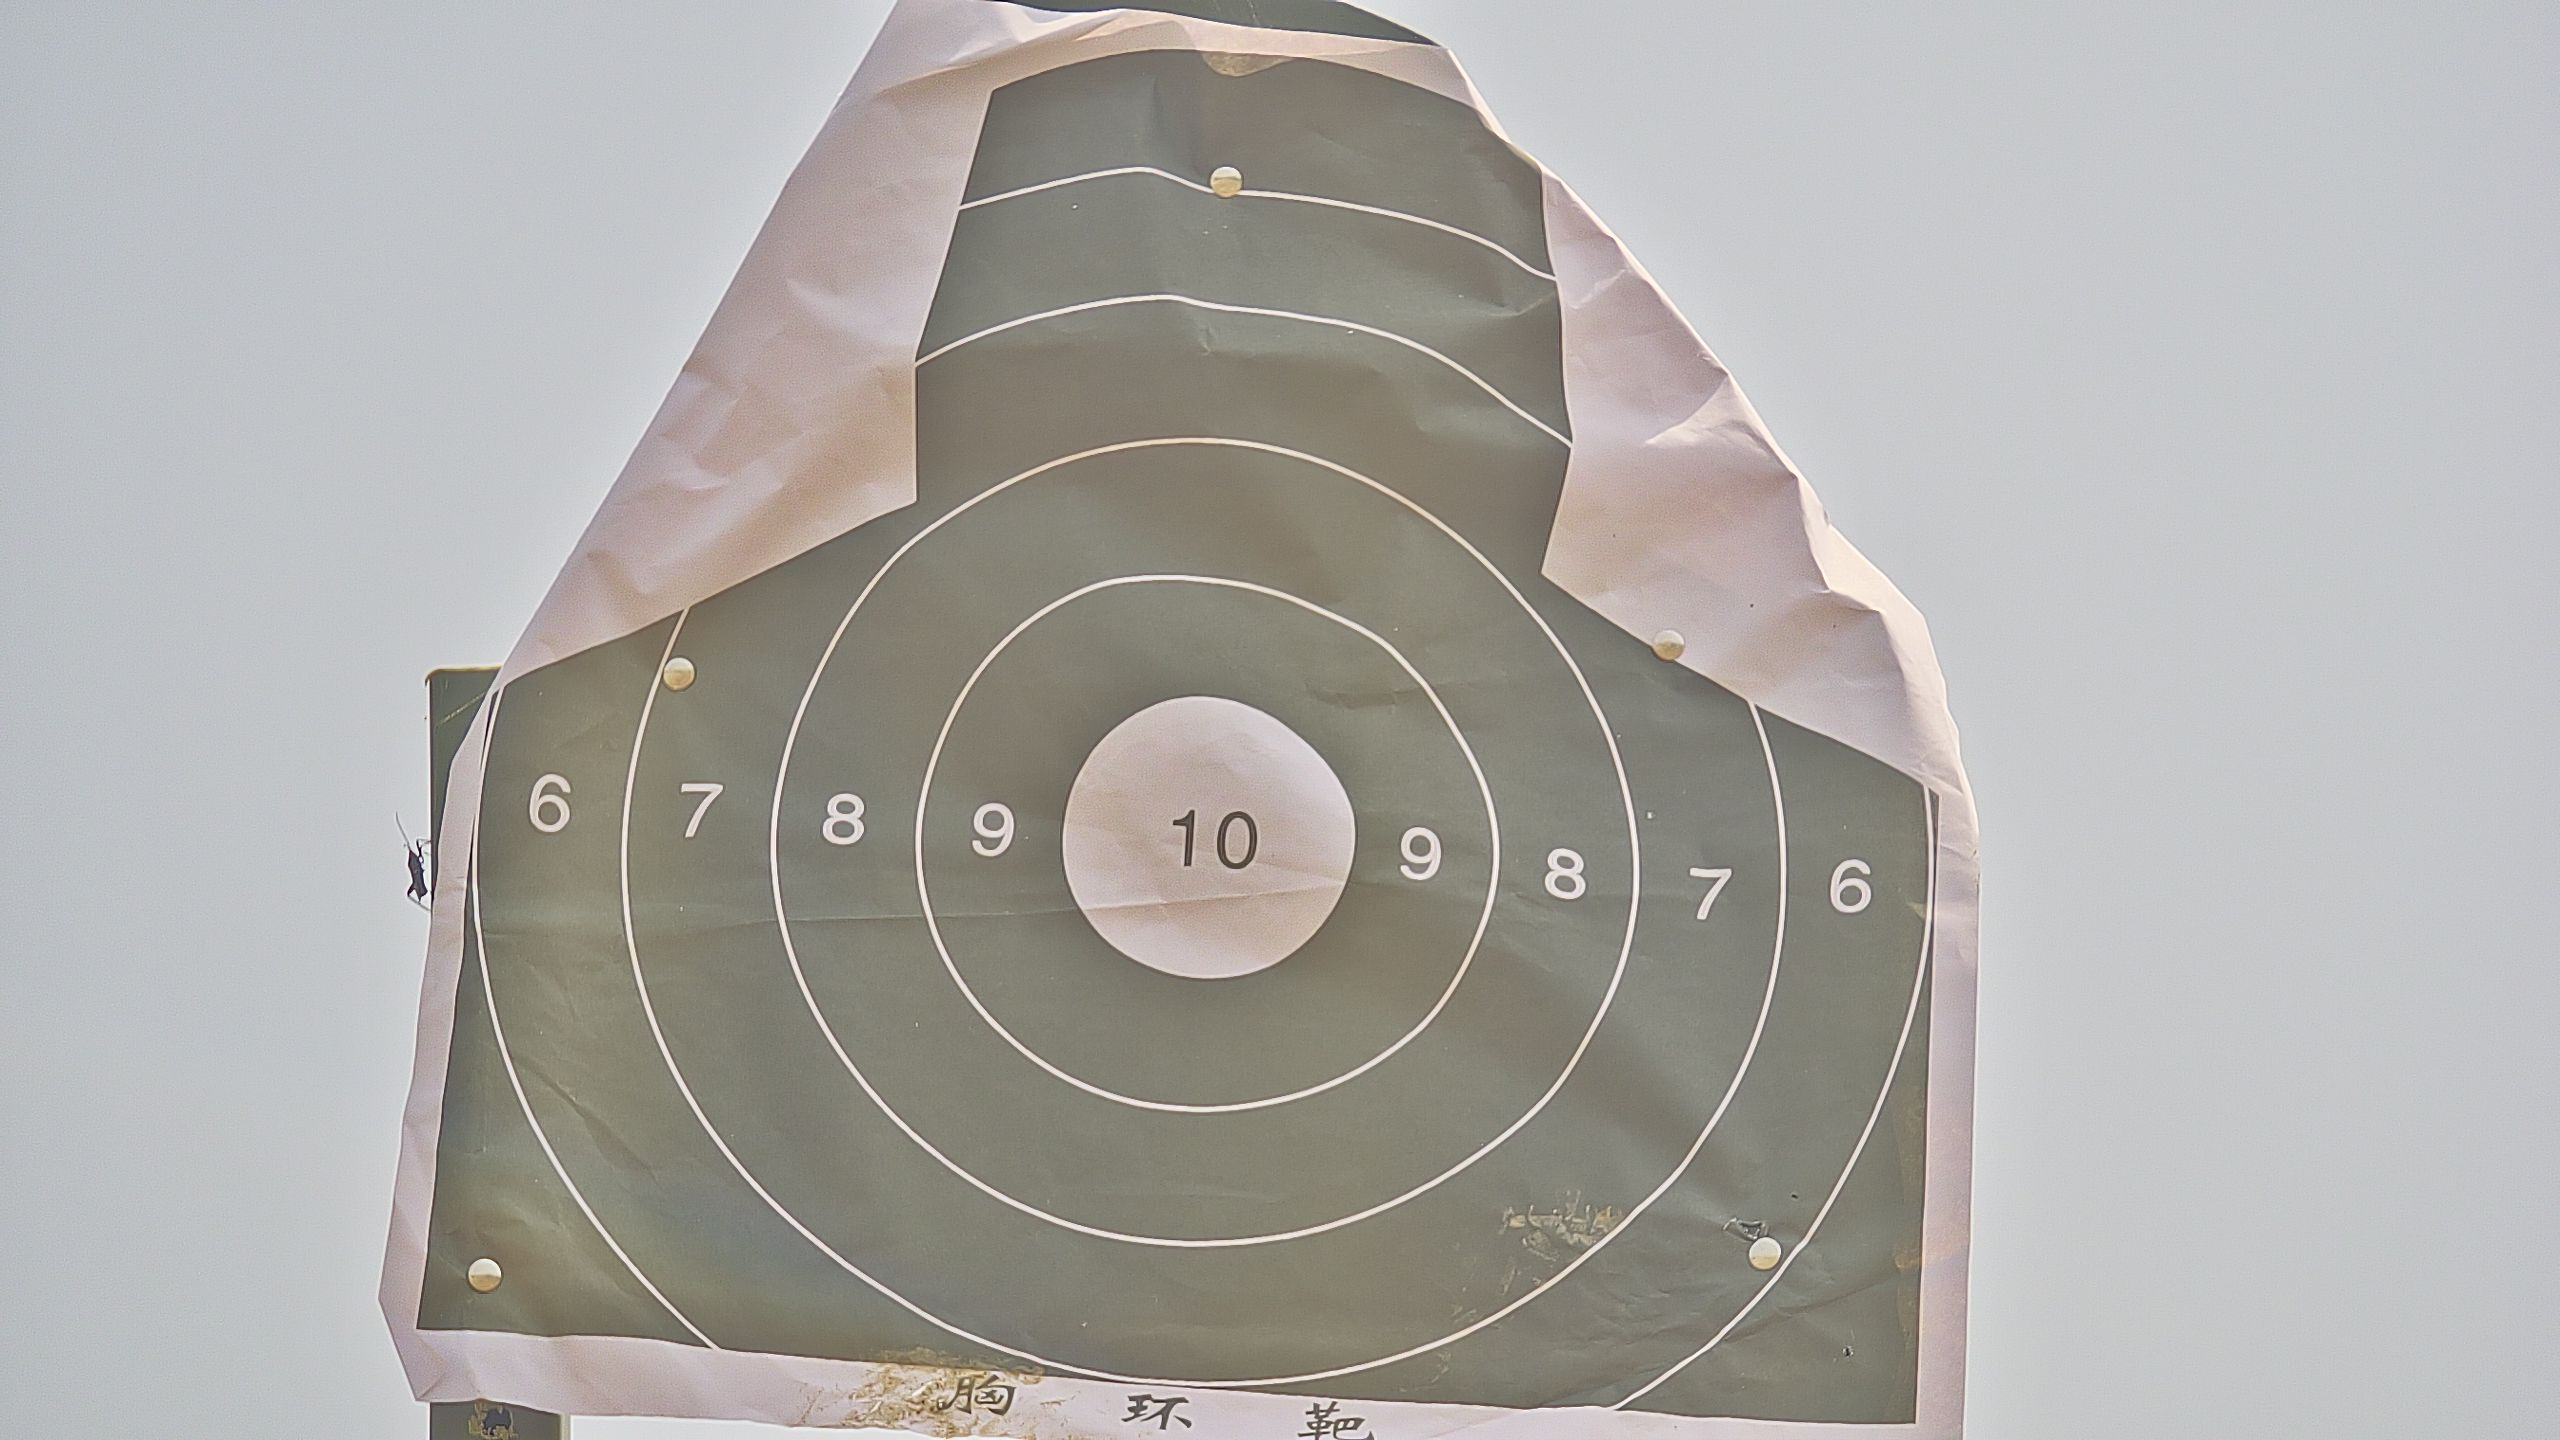kernel: (1203, 839, 1208, 846)
target: (410, 56, 1938, 1440)
ten: (1058, 695, 1361, 985)
